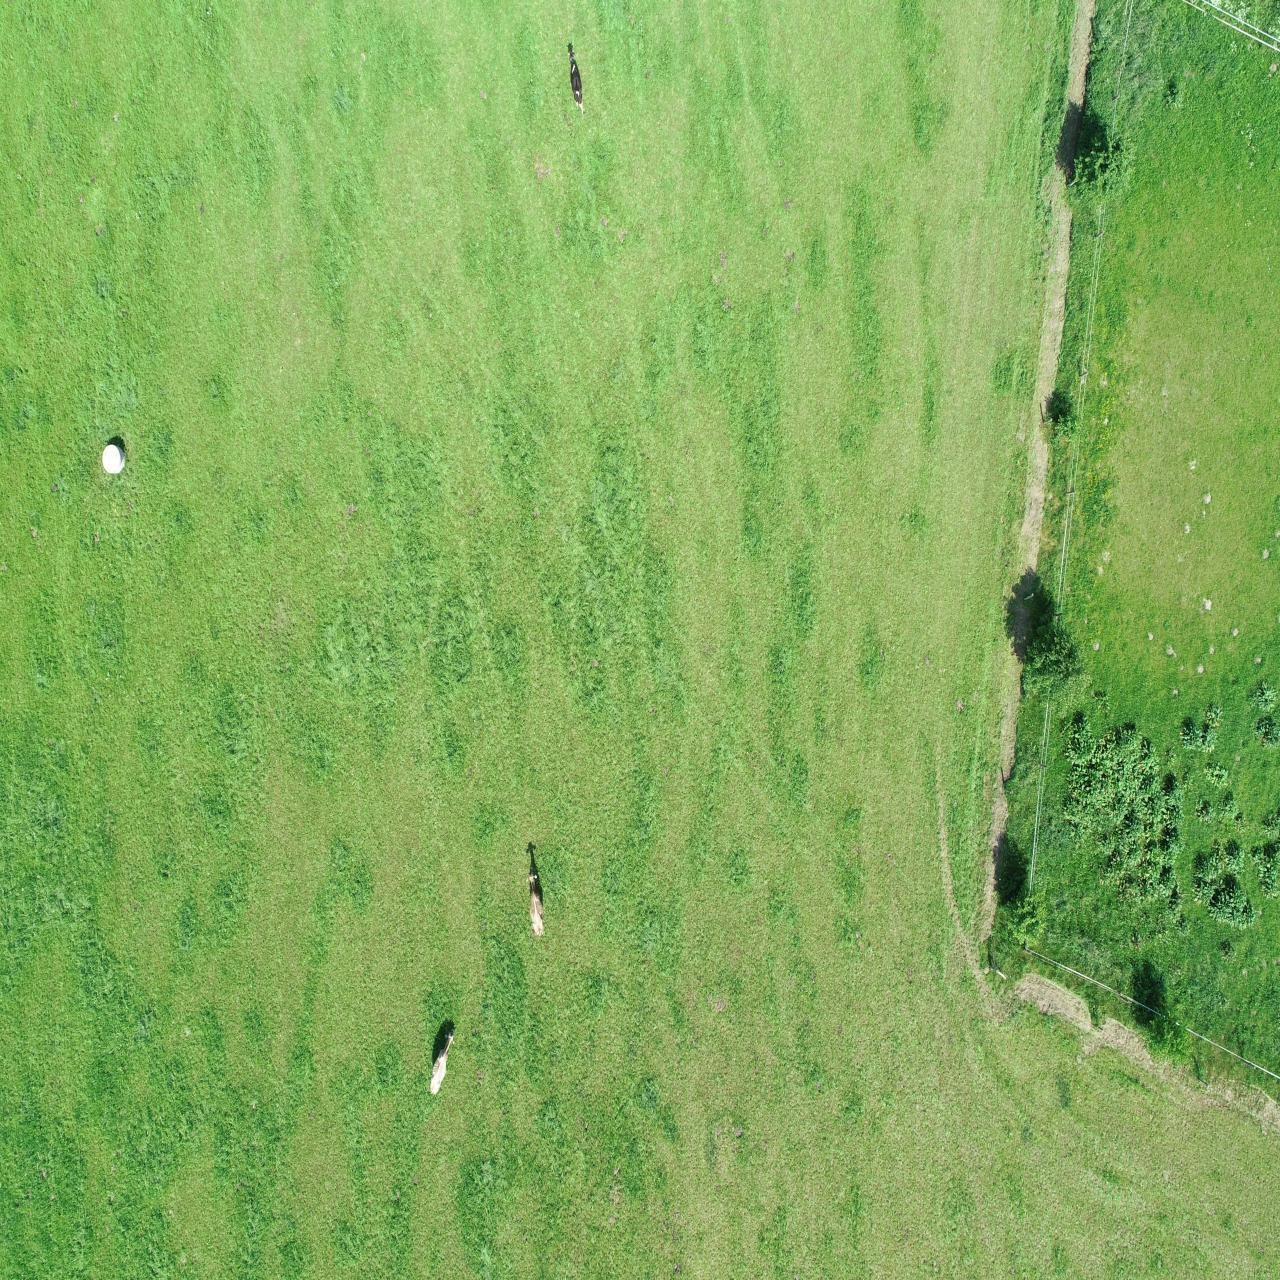cow: (429, 1027, 456, 1097), (524, 865, 546, 940), (566, 47, 587, 120)
